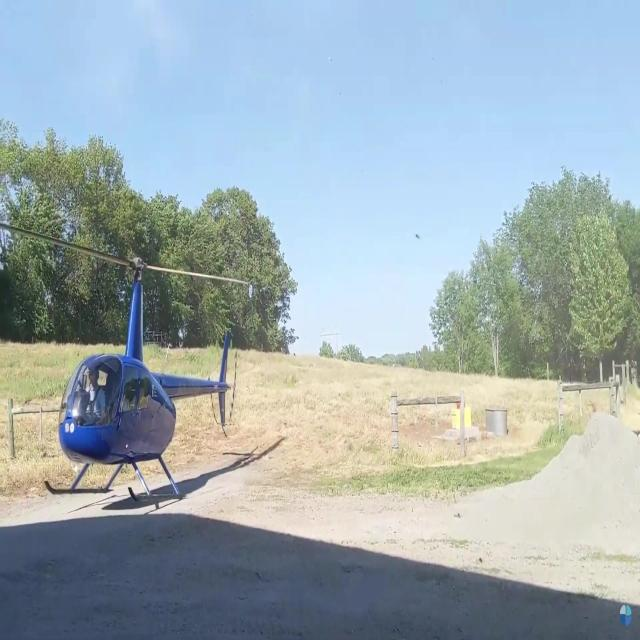CIV_HELO: (42, 256, 232, 506)
